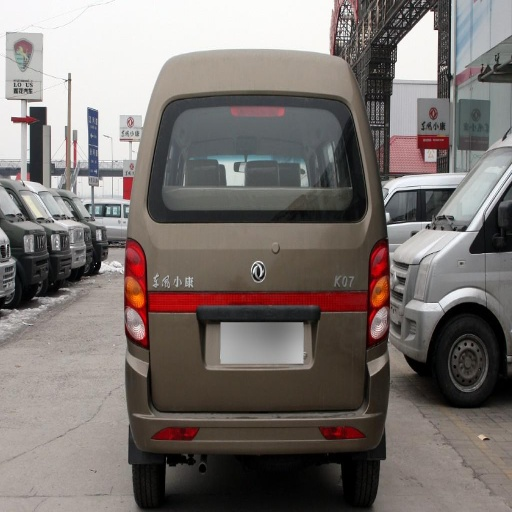back_bumper: (130, 342, 387, 454)
tailgate: (148, 191, 365, 257)
trunk: (147, 212, 365, 408)
